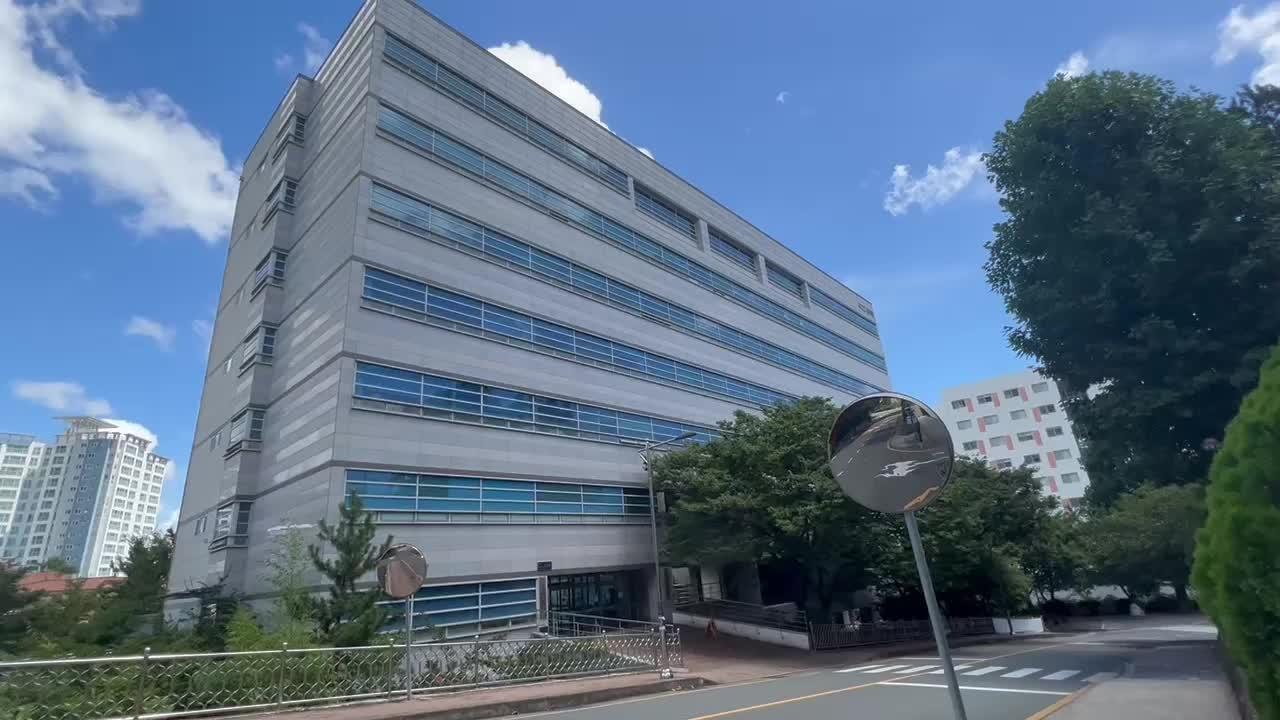building: (196, 30, 659, 600)
